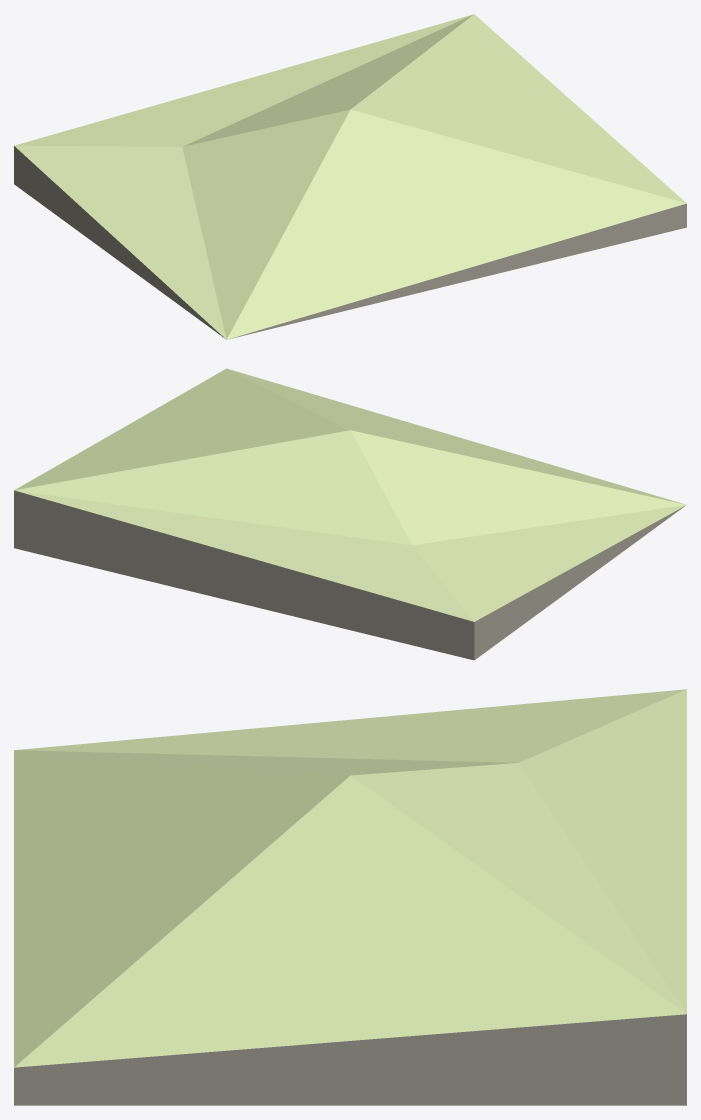
Rendered from building.site_model.points.gltf.
3 views of the same model, one above another, from view 1: azimuth 30°, elevation 25°; view 2: azimuth 150°, elevation 25°; view 3: azimuth 270°, elevation 25° (orthographic). The views are drawn at different scales.
Size of the model in its own units: 10 by 2 by 8.
